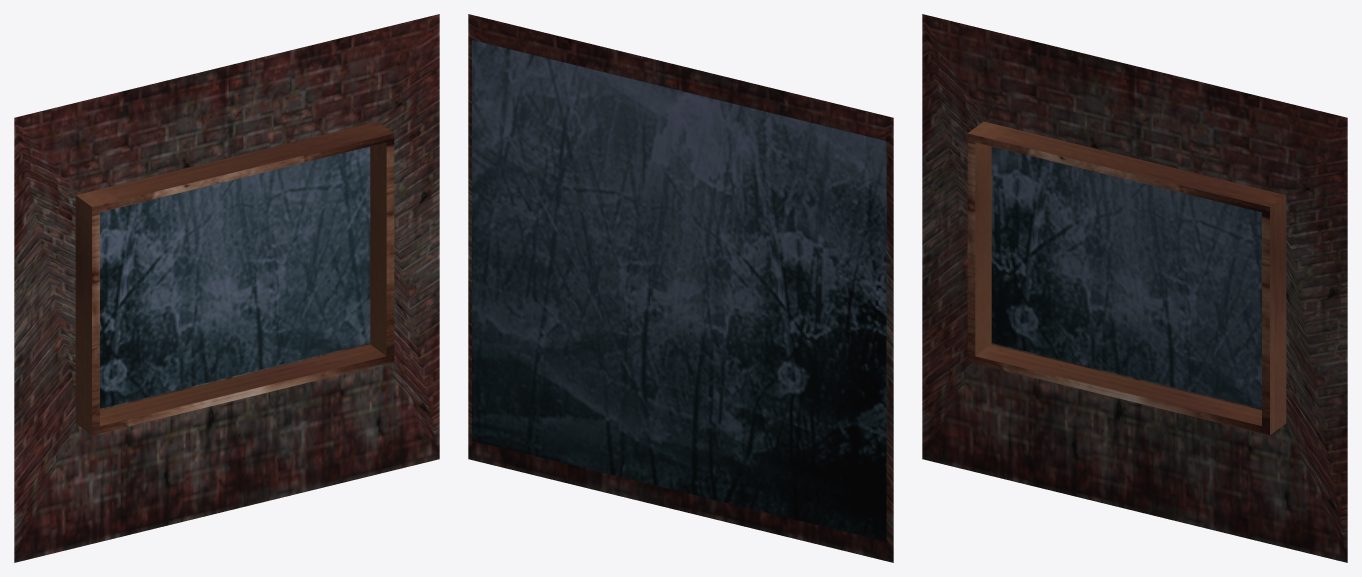
The model's file is wall_brick_window_1.obj.
The picture shows the model from 3 angles, left to right: view 1: azimuth 30°, elevation 25°; view 2: azimuth 150°, elevation 25°; view 3: azimuth 330°, elevation 25°; orthographic projection.
Visible parts, largest first — view 1: Wall_Window_3x3_01; view 2: Wall_Window_3x3_01; view 3: Wall_Window_3x3_01.
Boxes of the visible parts, x1=… form: Wall_Window_3x3_01: x1=14, y1=14, x2=439, y2=562; Wall_Window_3x3_01: x1=468, y1=14, x2=893, y2=562; Wall_Window_3x3_01: x1=922, y1=14, x2=1347, y2=562.
Size of the model in its own units: 3 by 3 by 0.2185.
3 materials, 3 textured.
